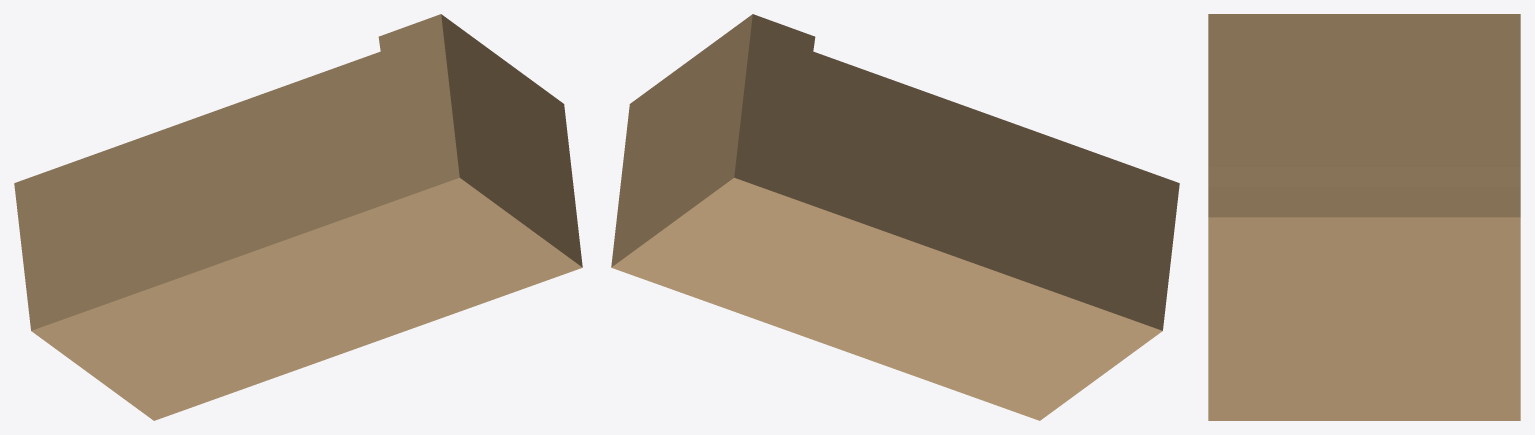
The picture shows the model from 3 angles, left to right: view 1: azimuth 30°, elevation 25°; view 2: azimuth 150°, elevation 25°; view 3: azimuth 270°, elevation 25°; orthographic projection. The views are drawn at different scales.
Visible parts, largest first — view 1: 0_3_0_1_1_1_3_1; view 2: 0_3_0_1_1_1_3_1; view 3: 0_3_0_1_1_1_3_1.
Boxes of the visible parts, box(x1,y1,x2,y2) form: 0_3_0_1_1_1_3_1: box(14, 14, 582, 420); 0_3_0_1_1_1_3_1: box(611, 14, 1179, 420); 0_3_0_1_1_1_3_1: box(1208, 14, 1520, 420).
Bounding box in the file's own units: 50.2 × 23.35 × 24.
